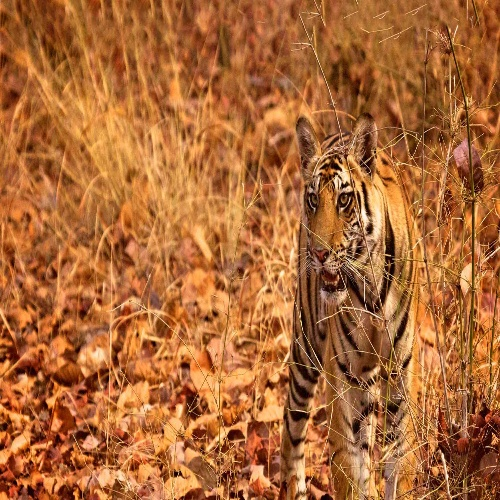tiger: (281, 110, 421, 457)
